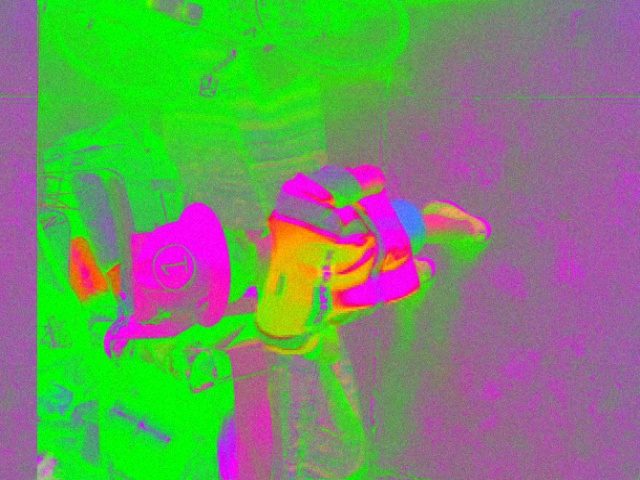one: (150, 242, 194, 290)
